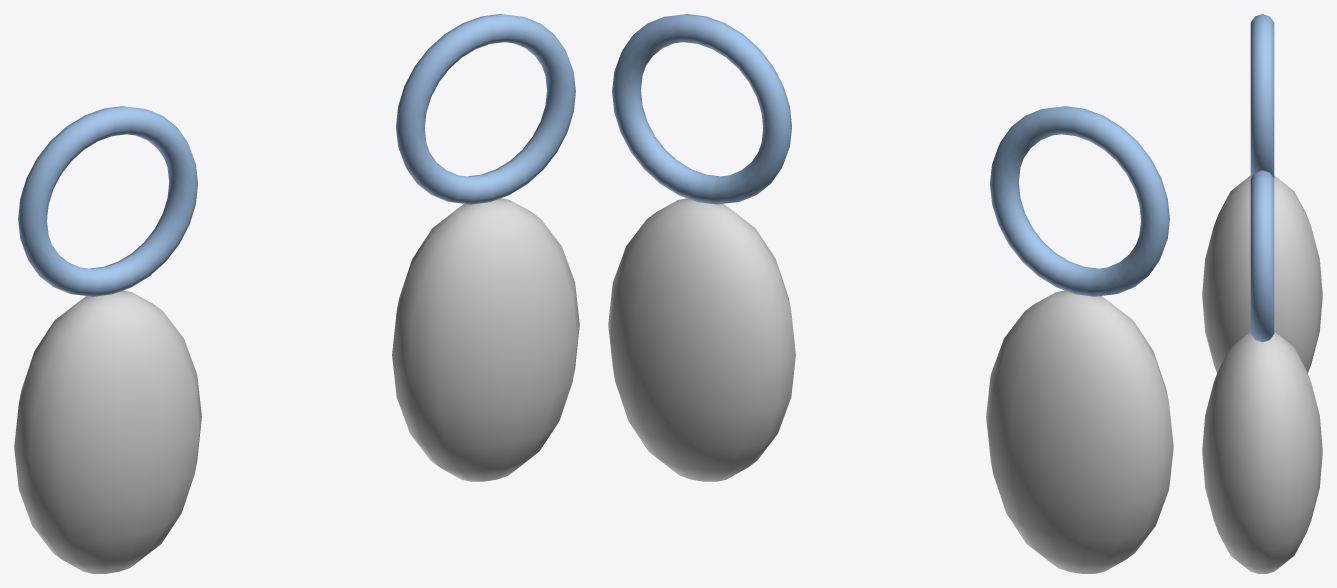
Rendered from VM-ACC-EXT184.glb.
3 renders of one model, left to right at view 1: azimuth 30°, elevation 25°; view 2: azimuth 150°, elevation 25°; view 3: azimuth 270°, elevation 25°, orthographic. The views are drawn at different scales.
Visible parts, largest first — view 1: Aretes Tropicales; view 2: Aretes Tropicales; view 3: Aretes Tropicales.
Boxes of the visible parts, left/top/right/bottom form: Aretes Tropicales: left=14, top=14, right=579, bottom=573; Aretes Tropicales: left=608, top=14, right=1173, bottom=573; Aretes Tropicales: left=1202, top=14, right=1322, bottom=573.
Size of the model in its own units: 0.0889 by 0.0707 by 0.0198.
